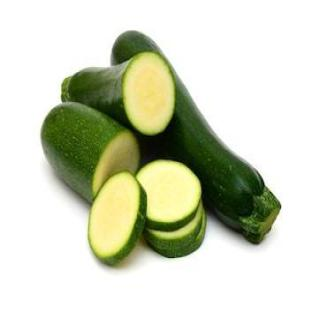Zucchini: (153, 66, 281, 242), (41, 102, 139, 201), (61, 52, 175, 135), (89, 172, 146, 265), (137, 160, 201, 230), (145, 202, 203, 249), (148, 210, 206, 257)
